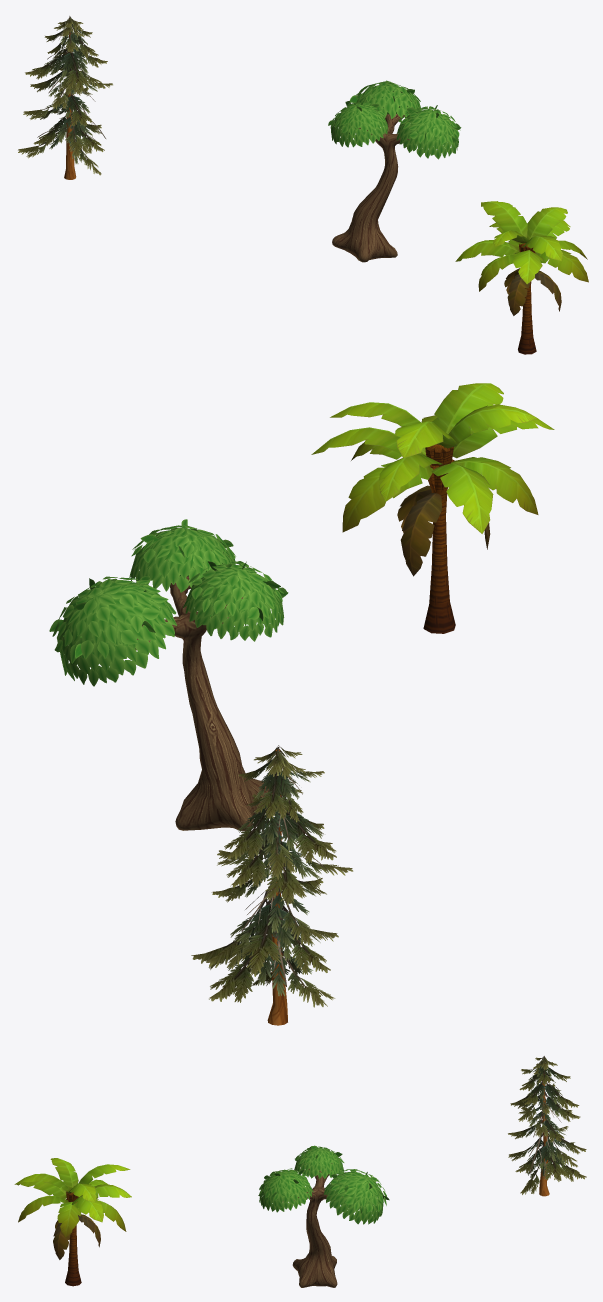
Rendered from tree.fbx.
3 views of the same model, one above another, from view 1: azimuth 30°, elevation 25°; view 2: azimuth 150°, elevation 25°; view 3: azimuth 270°, elevation 25° (orthographic). The views are drawn at different scales.
Parts seen in each view (by area): view 1: Bid_tree046004, coconut_tree, pasted__Tree_bark012; view 2: Bid_tree046004, coconut_tree, pasted__Tree_bark012; view 3: Bid_tree046004, coconut_tree, pasted__Tree_bark012.
Boxes of the visible parts, x1,y1,x2,y2 form: Bid_tree046004: (328, 80, 461, 262); coconut_tree: (455, 201, 588, 354); pasted__Tree_bark012: (18, 16, 112, 179); Bid_tree046004: (49, 519, 288, 831); coconut_tree: (311, 383, 554, 633); pasted__Tree_bark012: (191, 745, 353, 1025); Bid_tree046004: (258, 1145, 389, 1287); coconut_tree: (14, 1158, 131, 1286); pasted__Tree_bark012: (508, 1056, 586, 1196).
Size of the model in its own units: 15.59 by 9.73 by 32.
Materials: 5 (5 with a texture image).
